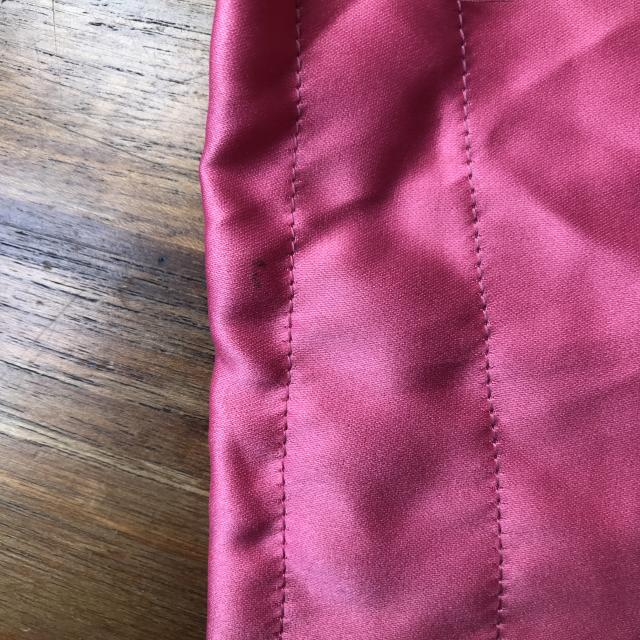good: (477, 456, 522, 614), (278, 233, 306, 343)
